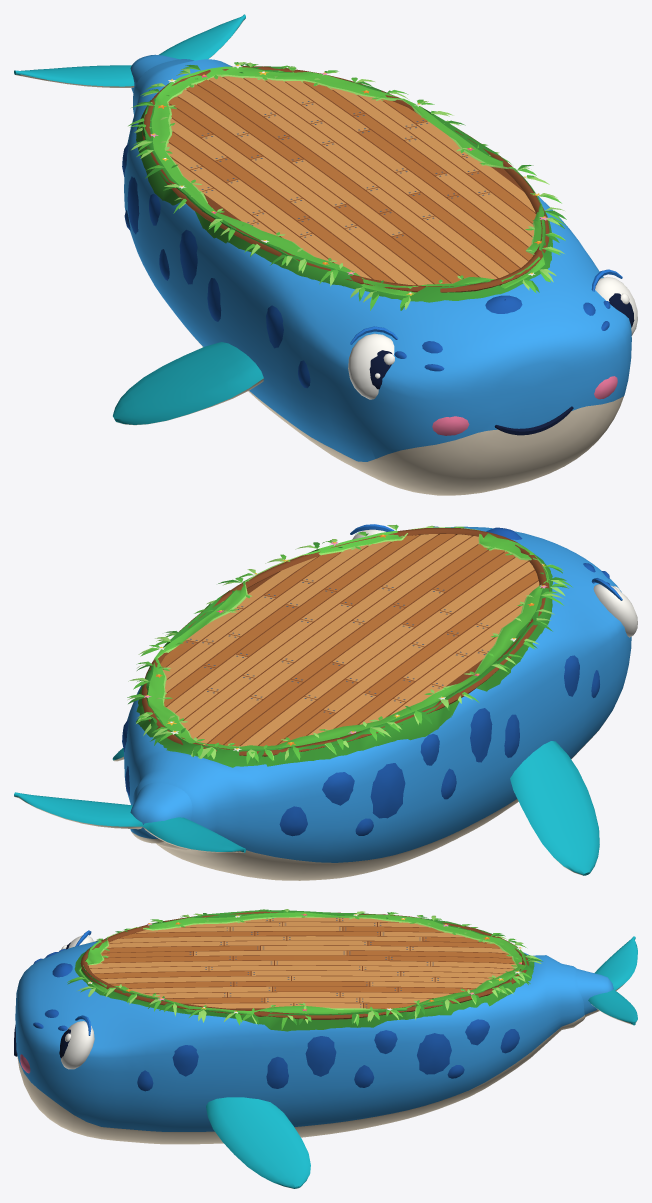
Rendered from whale.glb.
3 views of the same model, one above another, from view 1: azimuth 30°, elevation 25°; view 2: azimuth 150°, elevation 25°; view 3: azimuth 270°, elevation 25° (orthographic). The views are drawn at different scales.
Visible parts, largest first — view 1: body, rim, fin_r, tail, eye_r, eye_l; view 2: body, rim, fin_r, tail, eye_r; view 3: body, rim, fin_l, tail, eye_l.
Part boxes in pixels (x1=…): body: x1=122, y1=59, x2=631, y2=495; rim: x1=128, y1=62, x2=566, y2=310; fin_r: x1=113, y1=342, x2=263, y2=425; tail: x1=14, y1=14, x2=245, y2=93; eye_r: x1=348, y1=333, x2=394, y2=399; eye_l: x1=595, y1=276, x2=637, y2=335; body: x1=122, y1=524, x2=631, y2=880; rim: x1=127, y1=524, x2=572, y2=767; fin_r: x1=510, y1=741, x2=599, y2=875; tail: x1=14, y1=782, x2=245, y2=852; eye_r: x1=593, y1=584, x2=637, y2=637; body: x1=14, y1=917, x2=585, y2=1144; rim: x1=67, y1=909, x2=542, y2=1031; fin_l: x1=206, y1=1097, x2=310, y2=1188; tail: x1=576, y1=936, x2=637, y2=1025; eye_l: x1=59, y1=1021, x2=94, y2=1069.
Size of the model in its own units: 15.5 by 6.74 by 23.07.
